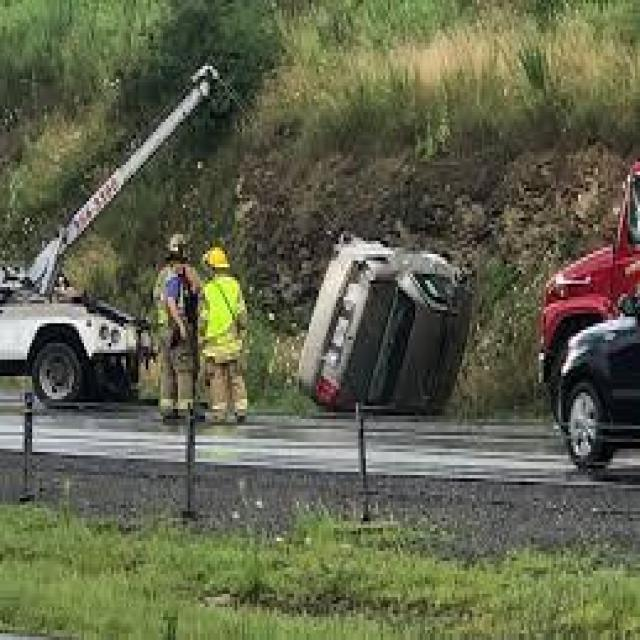accident: (287, 231, 484, 419)
